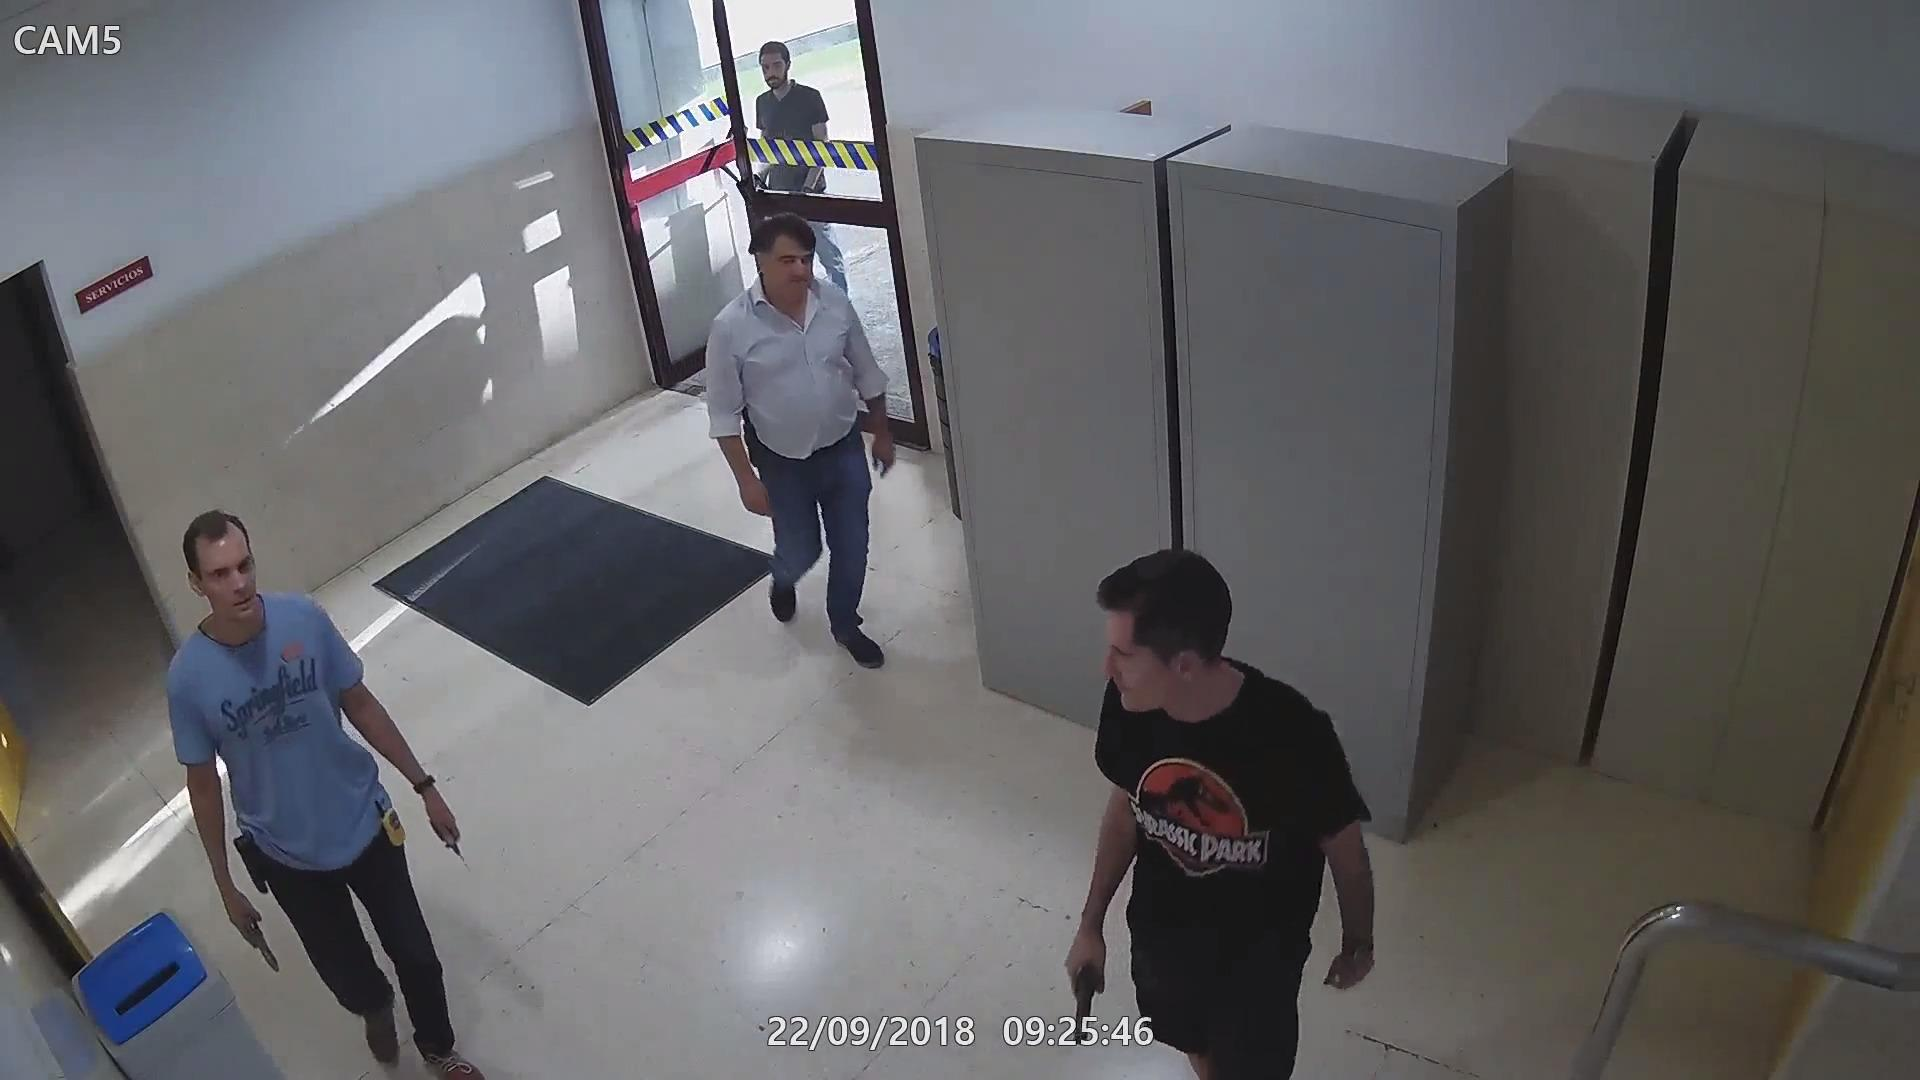Handgun: (218, 881, 284, 976), (1065, 922, 1113, 1050), (738, 404, 766, 473)
